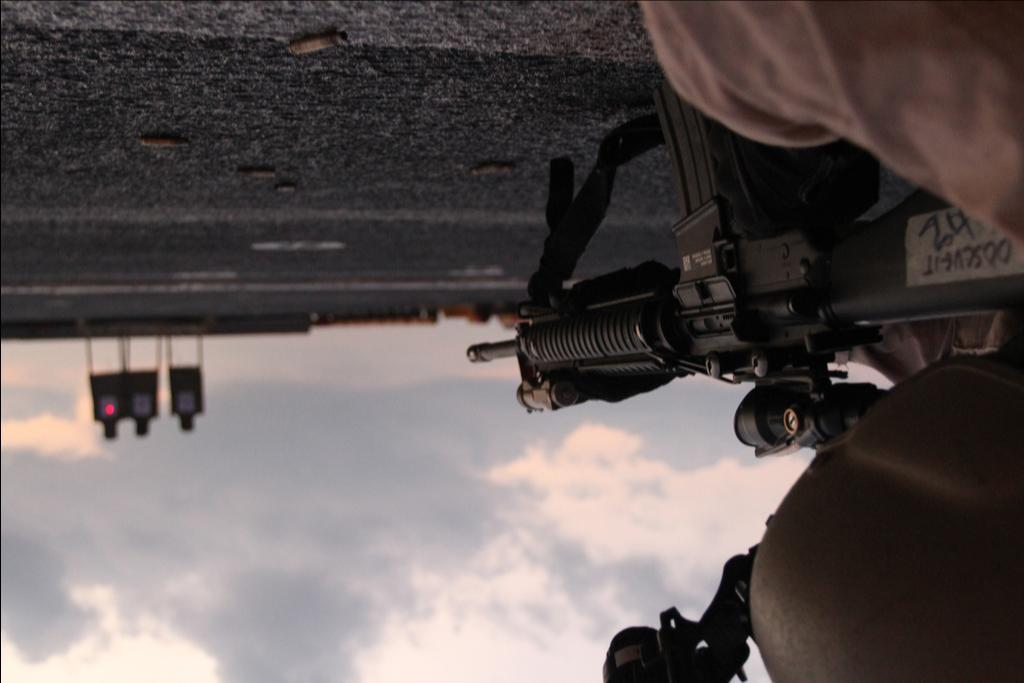gun: (451, 71, 1010, 446)
